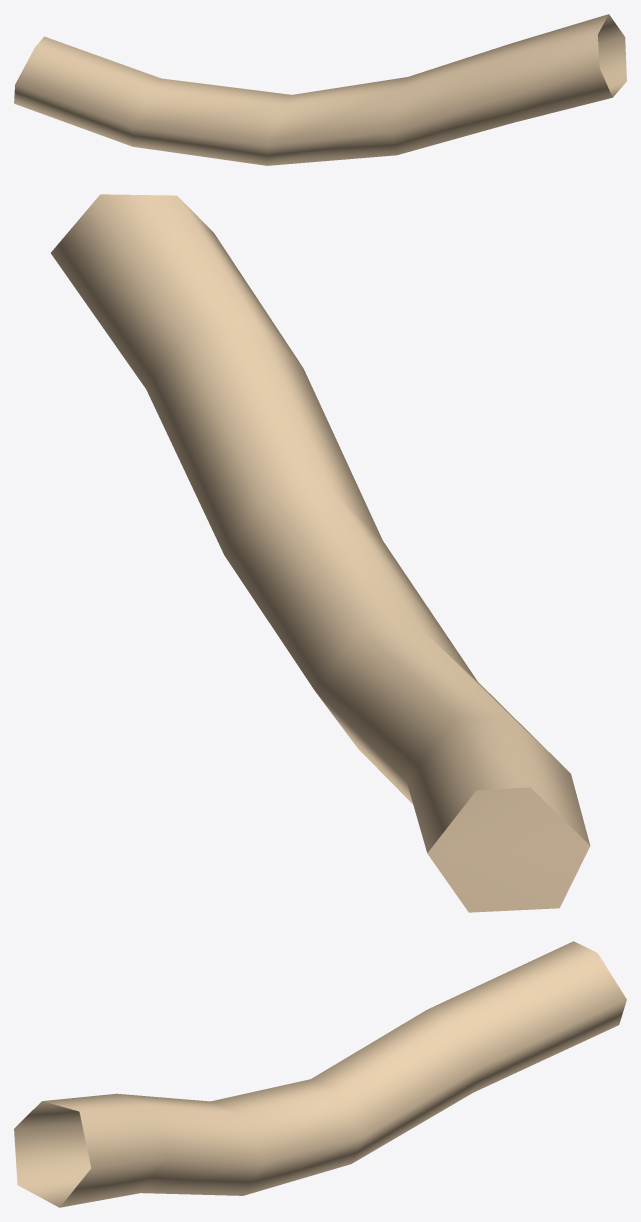
File: L_B_intermedius_Nerve01.fbx
The picture shows the model from 3 angles, top to bottom: view 1: azimuth 30°, elevation 25°; view 2: azimuth 150°, elevation 25°; view 3: azimuth 270°, elevation 25°; orthographic projection. The views are drawn at different scales.
Parts seen in each view (by area): view 1: L_B_intermedius_Nerve01; view 2: L_B_intermedius_Nerve01; view 3: L_B_intermedius_Nerve01.
Part boxes in pixels (x1,y1,x2,y2): L_B_intermedius_Nerve01: (14, 14, 626, 165); L_B_intermedius_Nerve01: (51, 194, 590, 912); L_B_intermedius_Nerve01: (14, 941, 626, 1207).
Size of the model in its own units: 0.3913 by 0.1276 by 0.3431.
